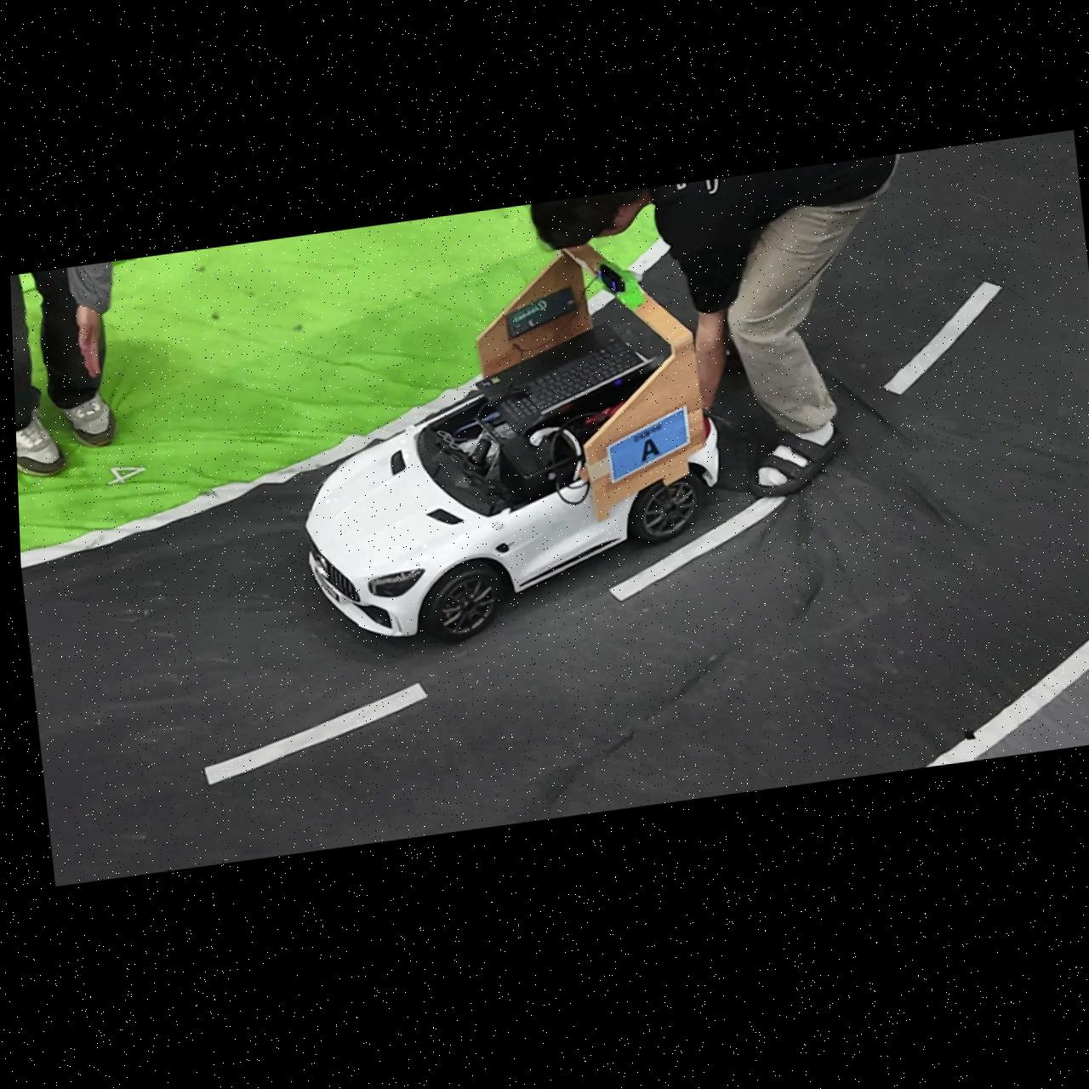broken_line: (205, 683, 428, 785), (609, 496, 787, 601), (883, 282, 1002, 395)
